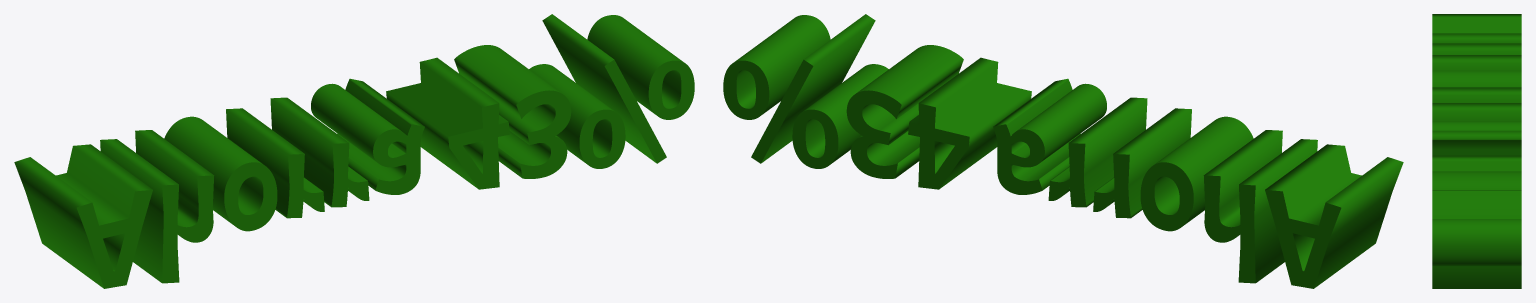
Rendered from ahorro_pre.obj.
3 views of the same model, side by side, from view 1: azimuth 30°, elevation 25°; view 2: azimuth 150°, elevation 25°; view 3: azimuth 270°, elevation 25° (orthographic). The views are drawn at different scales.
Parts seen in each view (by area): view 1: Texto; view 2: Texto; view 3: Texto.
Boxes of the visible parts, <box> form: Texto: <box>14,14,694,288</box>; Texto: <box>723,14,1403,288</box>; Texto: <box>1432,14,1521,288</box>.
Size of the model in its own units: 3.9 by 0.7054 by 0.68.
